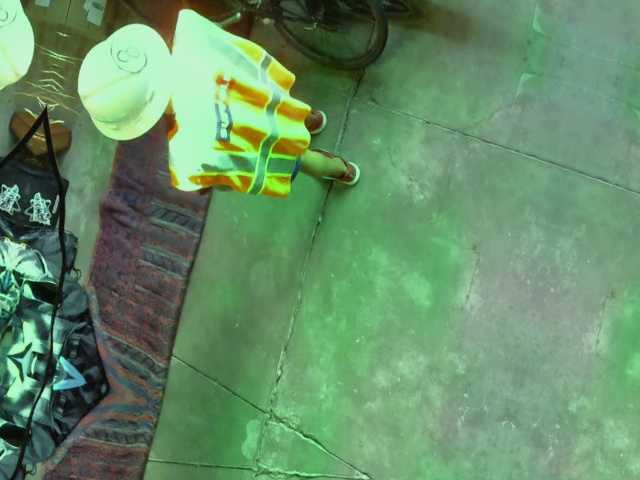eight: (105, 29, 150, 77)
